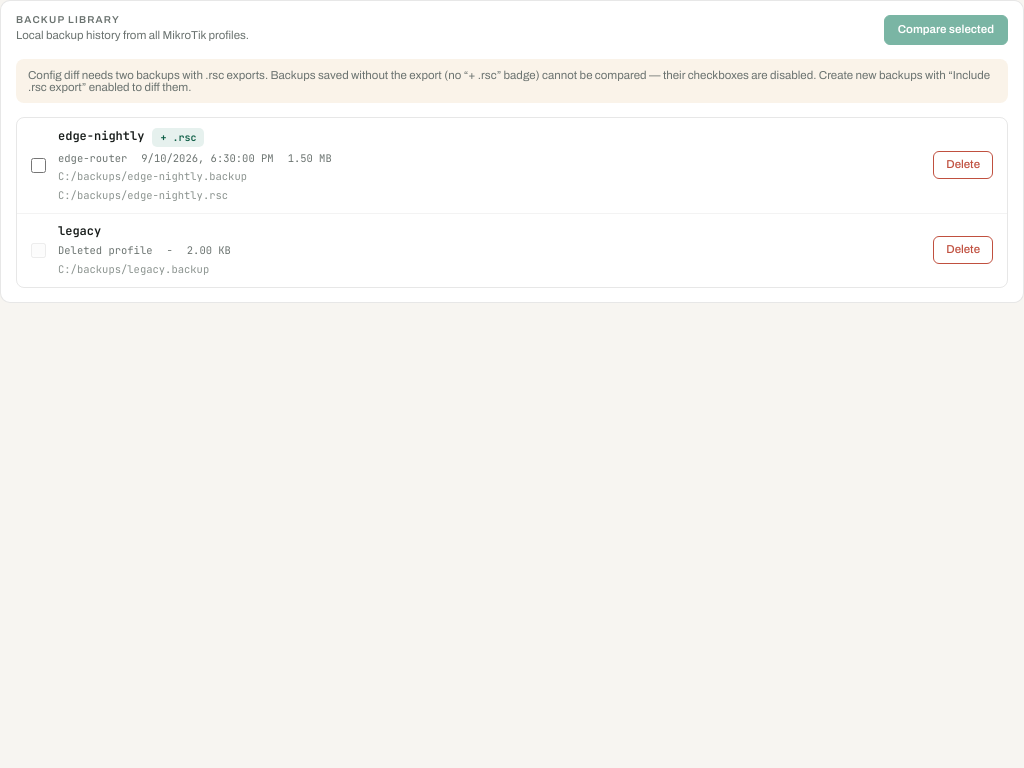
Test case: MikrotikBackupLibrary › confirms deletion, deletes the record, and reloads
The image size is (1024, 768).
Click the button with aria-label "Delete edge-nightly".
click(963, 165)  # box [933,151,993,179]
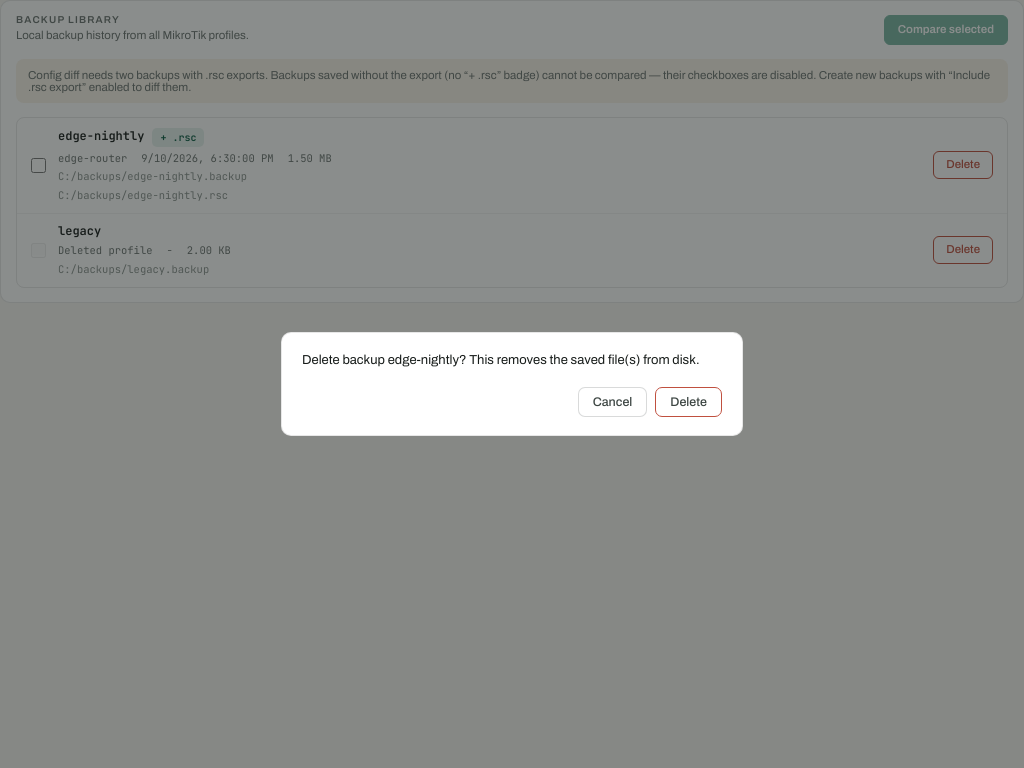
Expected: the text "Delete backup edge-nightly? This removes the saved file(s) from disk." is shown, [302,351,722,370]
Click the button with test id "confirm-dialog-confirm".
click(689, 402)  # box [655,386,722,417]
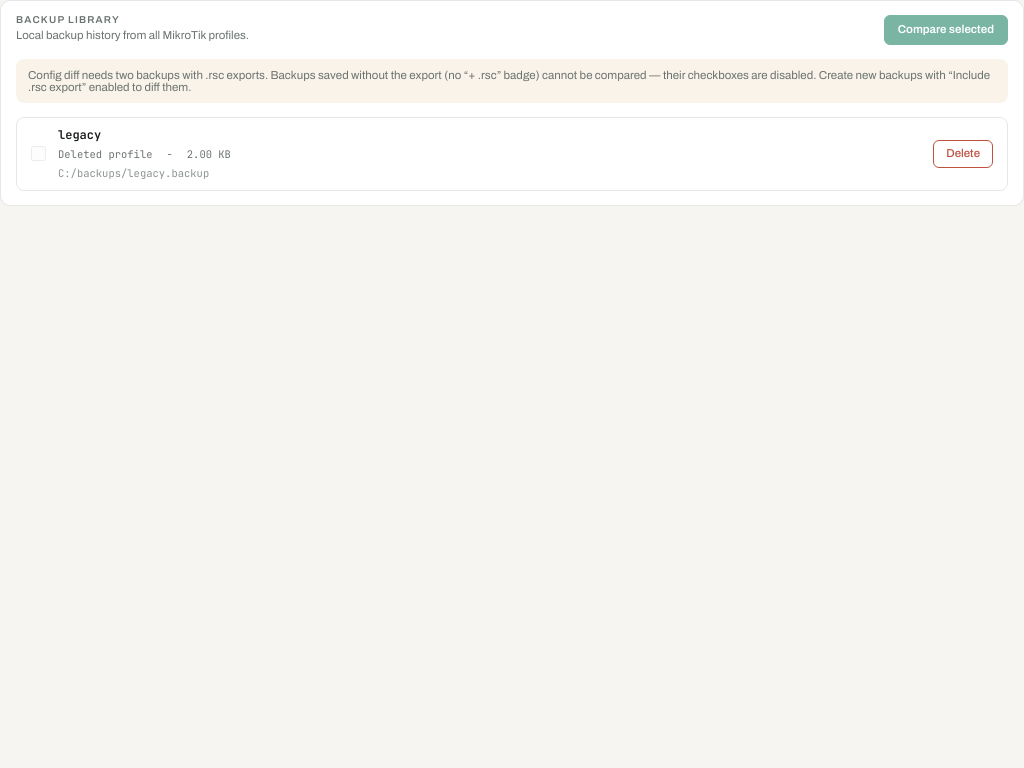
Expected: the text "edge-nightly" is gone
